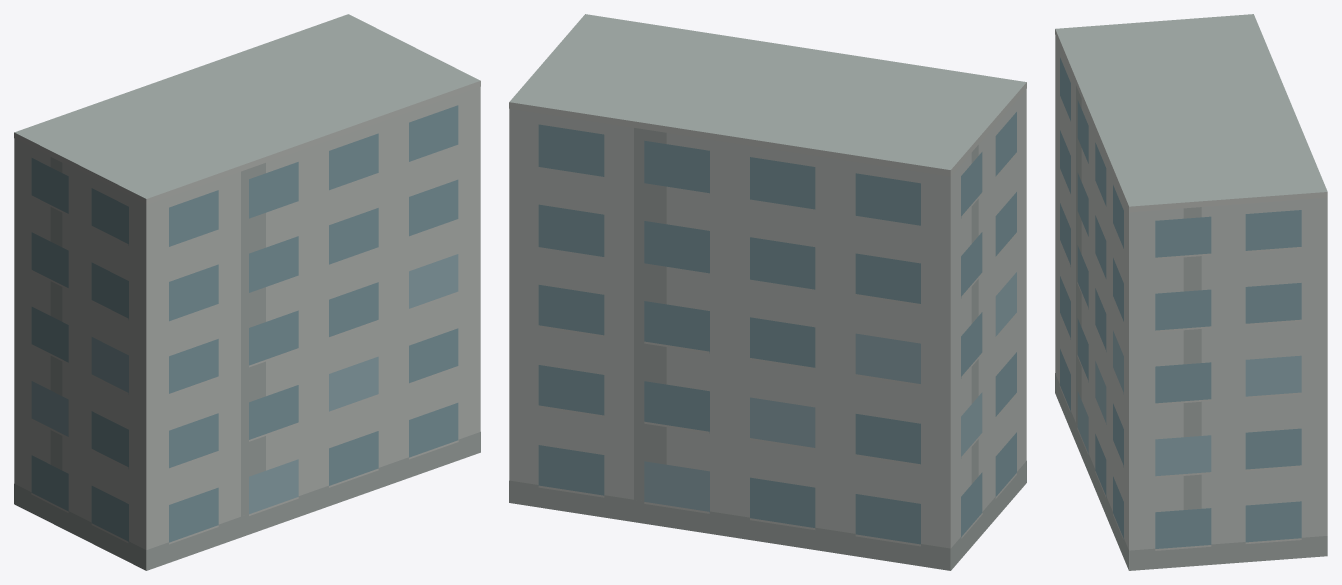
Rendered from residential-ae25fdef-f6e3-4a84-a314-be600c6d205c.glb.
The picture shows the model from 3 angles, left to right: view 1: azimuth 30°, elevation 25°; view 2: azimuth 150°, elevation 25°; view 3: azimuth 270°, elevation 25°; orthographic projection. The views are drawn at different scales.
Visible parts, largest first — view 1: residential-ae25fdef-f6e3-4a84-a314-be600c6d205c.tmp; view 2: residential-ae25fdef-f6e3-4a84-a314-be600c6d205c.tmp; view 3: residential-ae25fdef-f6e3-4a84-a314-be600c6d205c.tmp.
Boxes of the visible parts, x1,y1,x2,y2 form: residential-ae25fdef-f6e3-4a84-a314-be600c6d205c.tmp: [14, 14, 480, 570]; residential-ae25fdef-f6e3-4a84-a314-be600c6d205c.tmp: [509, 14, 1026, 570]; residential-ae25fdef-f6e3-4a84-a314-be600c6d205c.tmp: [1055, 14, 1327, 570].
Bounding box in the file's own units: 17.3 × 15.25 × 10.35.
